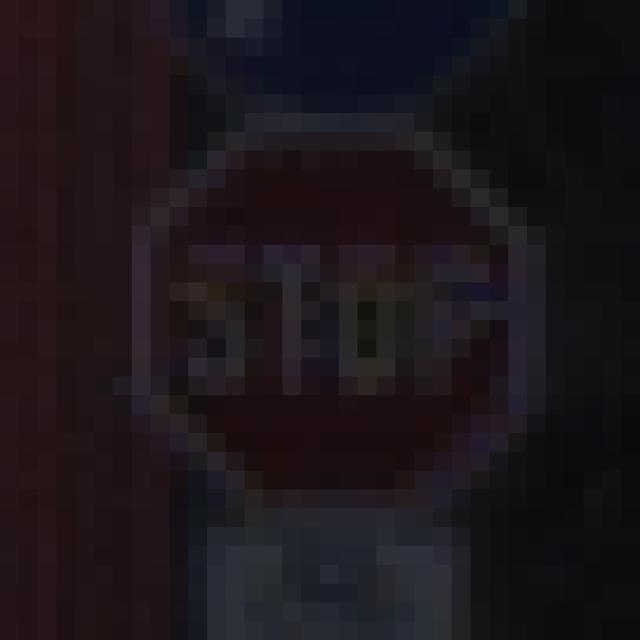STOP: (95, 95, 547, 547)
